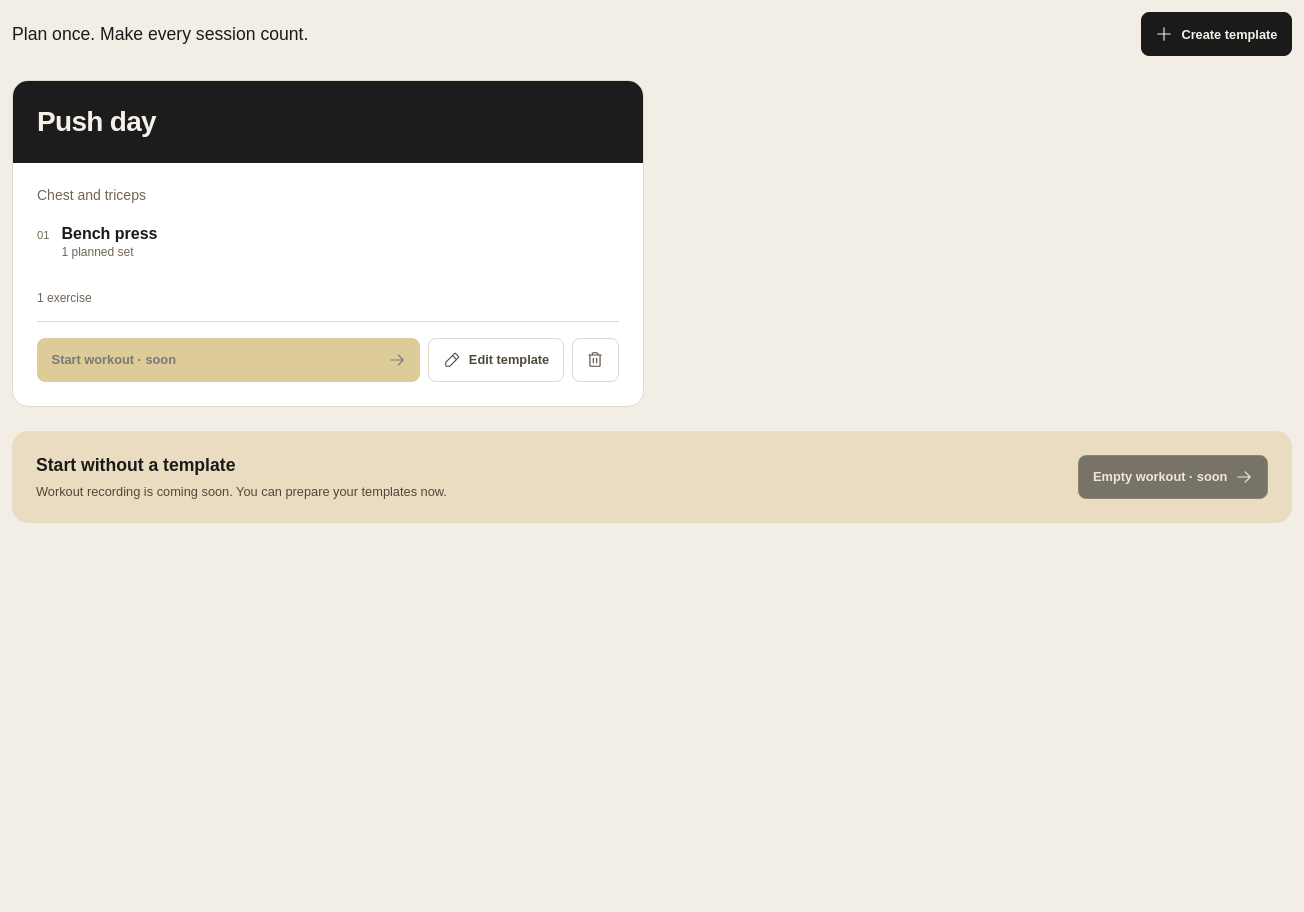
Test case: workout templates › keeps valid edited values after a failed save and retries
Click the button with aria-label "Edit Push day" at (496, 360), box [428, 338, 564, 382]
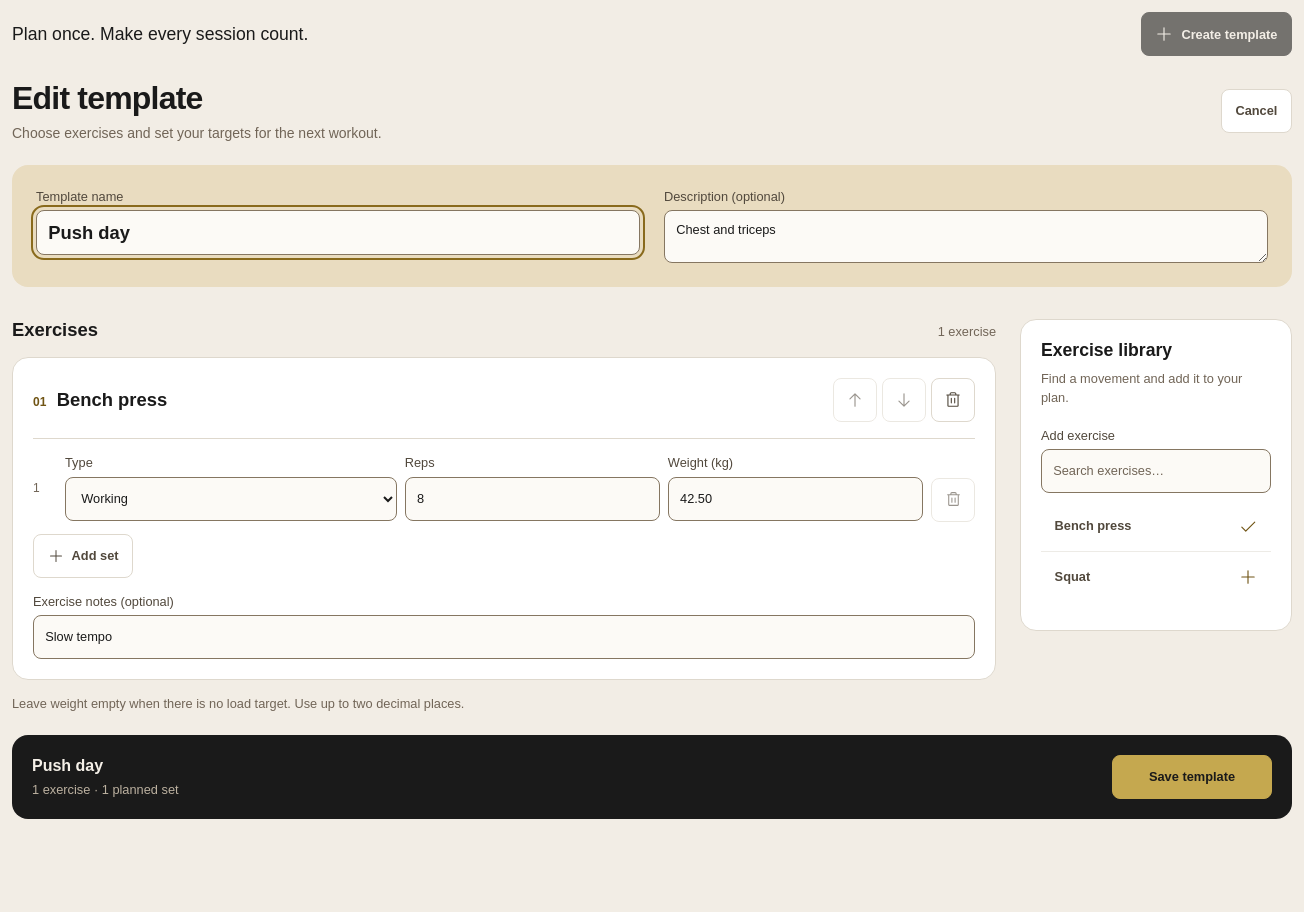
Type " B" into the field labelled "Template name" at (338, 233), box [36, 210, 640, 255]
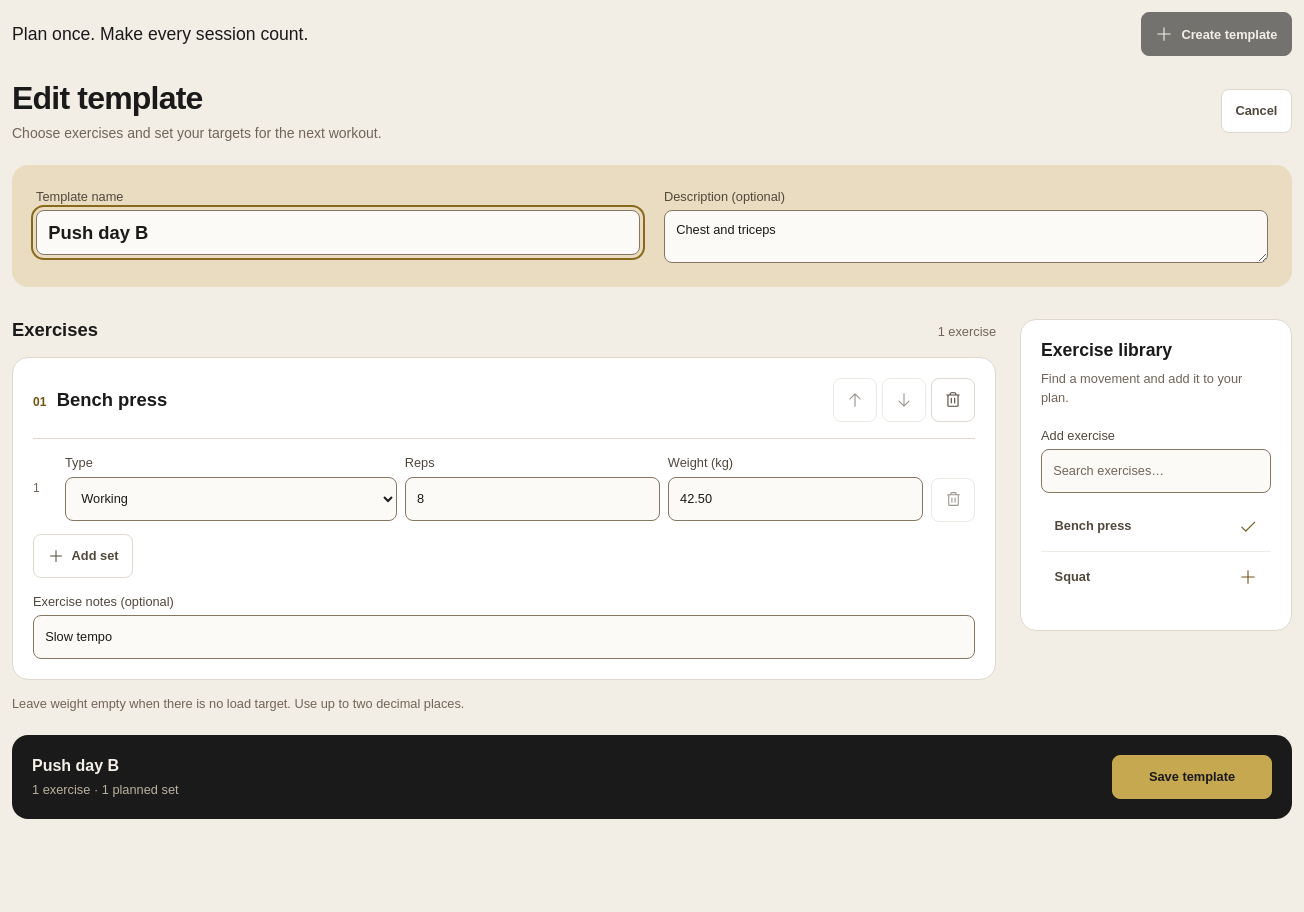
Click the button "Save template" at (1192, 777), box [1112, 755, 1272, 799]
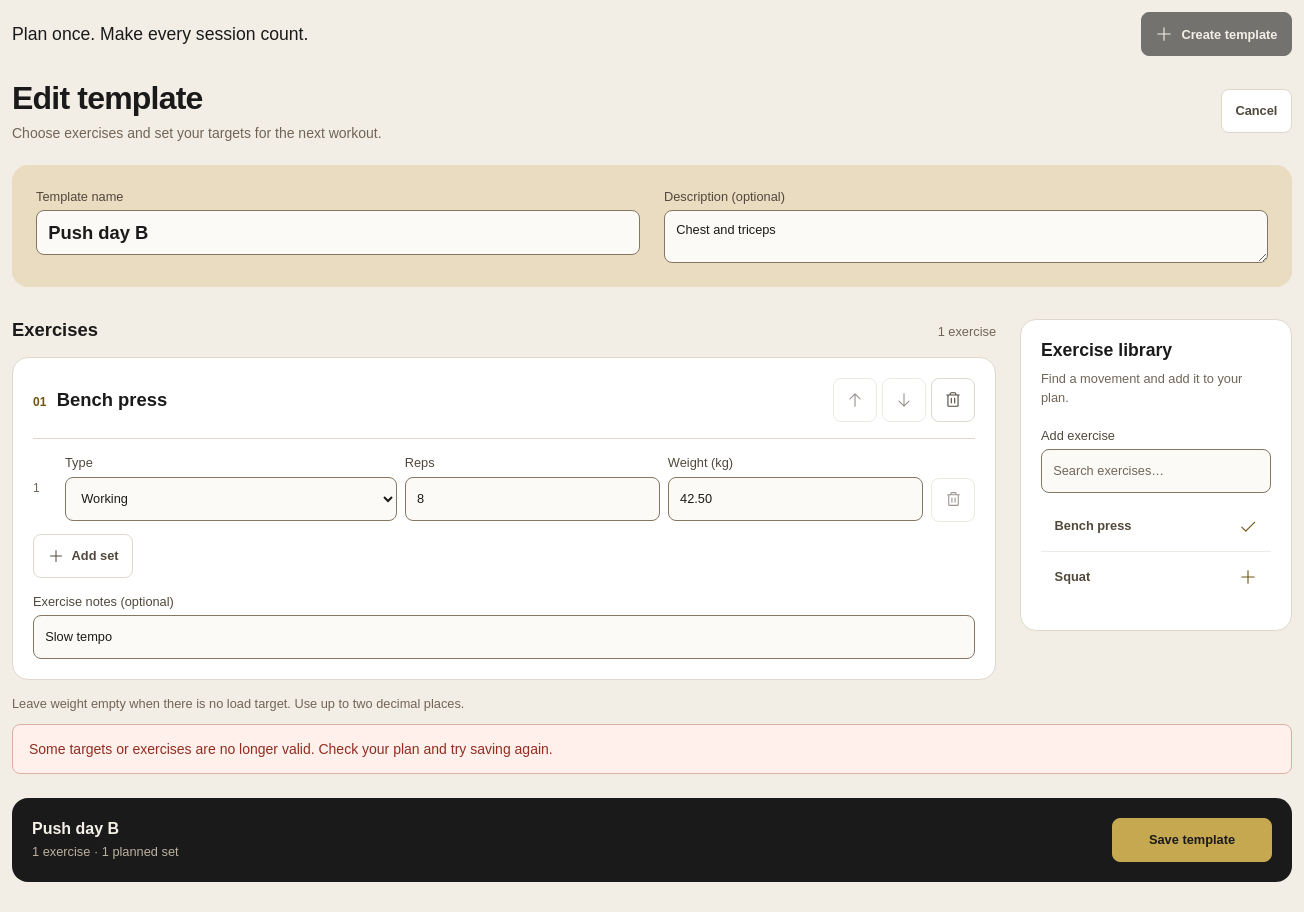
Check: the field labelled "Template name" holds "Push day B", box [36, 210, 640, 255]
Check: the message shows "Some targets or exercises", box [29, 741, 553, 757]
Click the button "Save template" at (1192, 840), box [1112, 818, 1272, 862]
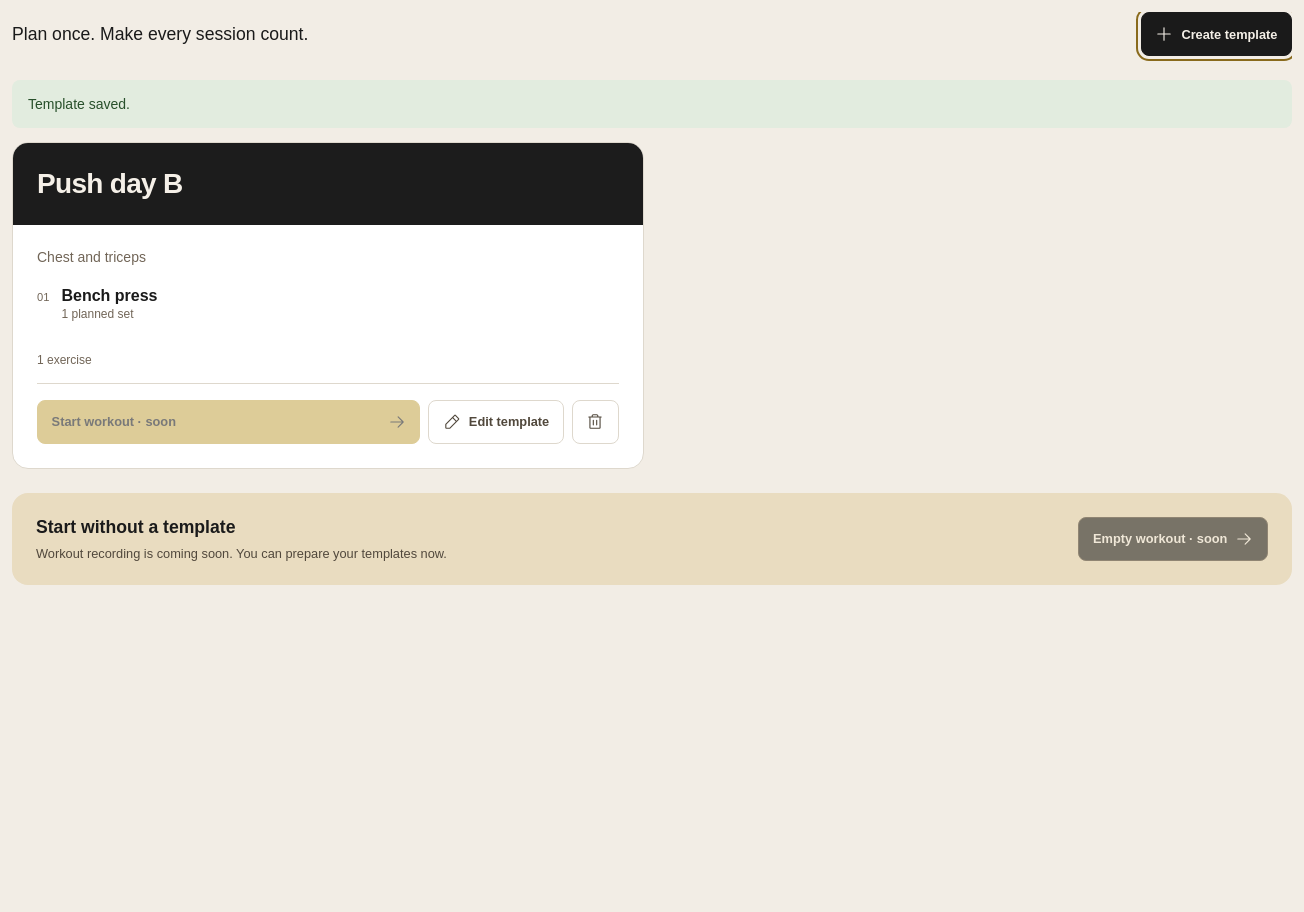
Check: the text "Template saved." is shown, box [12, 80, 1292, 128]
